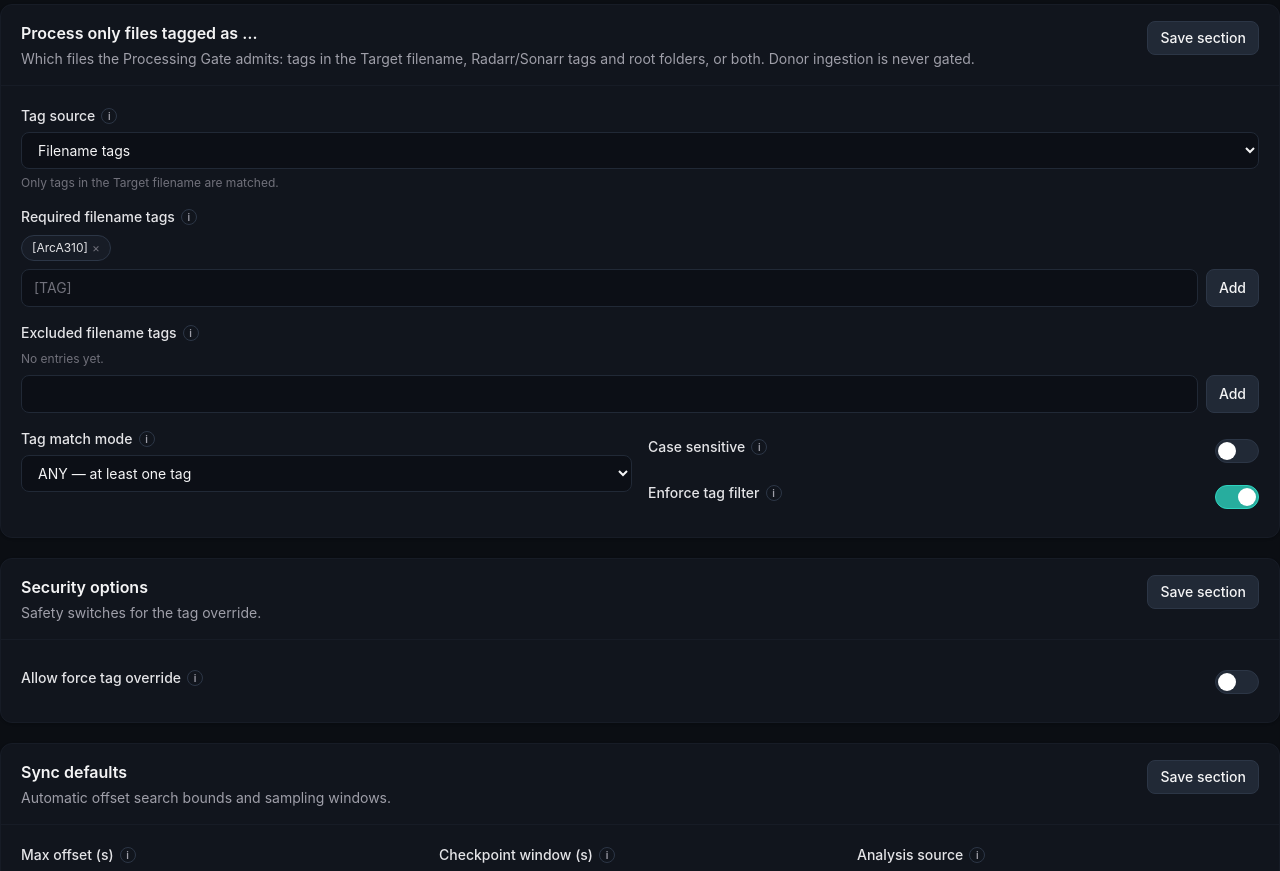
it: watch scanner restart notice › applies a target.tag_filter edit without a restart notice
(page scrolled)
Expected: the heading "Process only files tagged as …" is shown, [21,22,257,42]
Click the switch named "Case sensitive" at point(1237, 450), box [1215,438,1259,462]
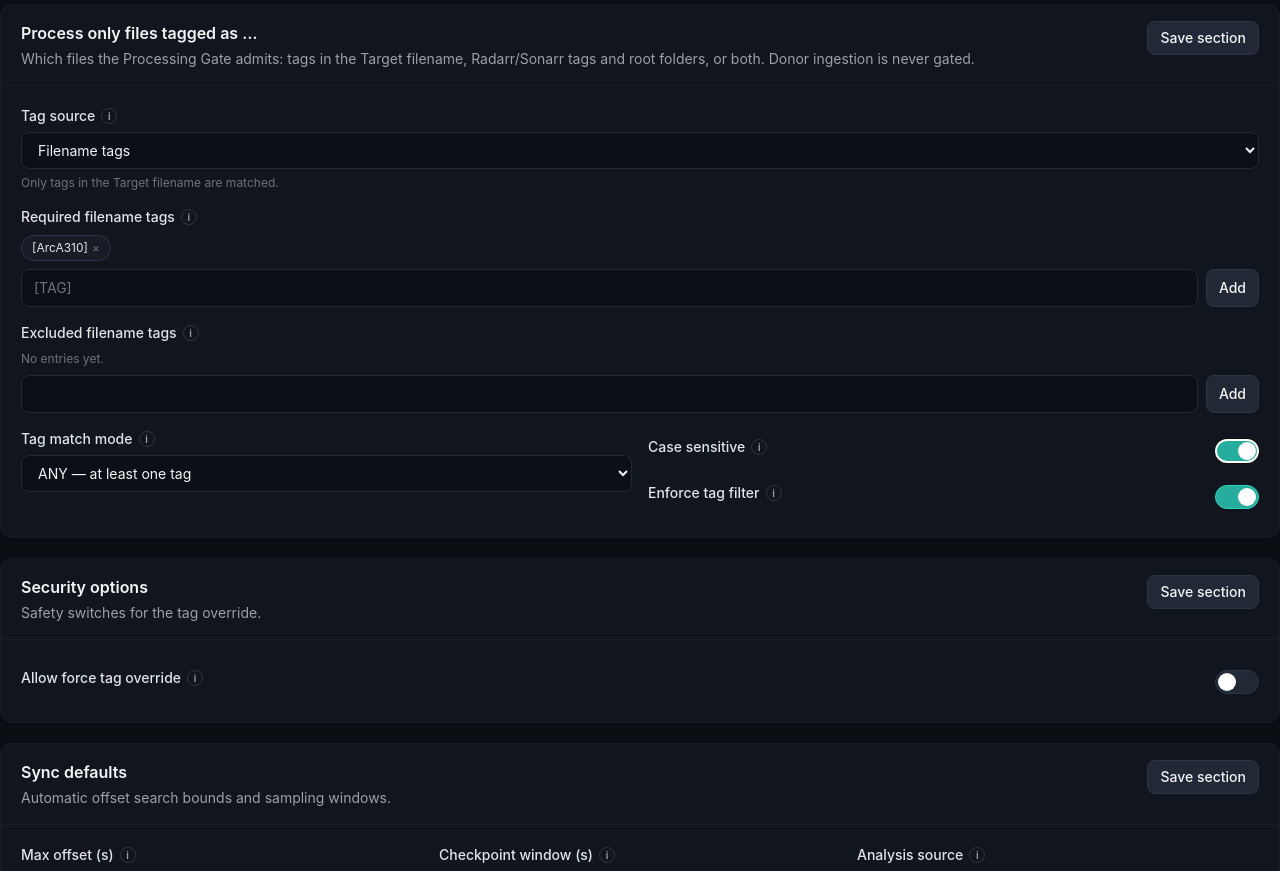
Click the button with aria-label "Save Process only files tagged as …" at point(1203, 38), box [1148,20,1259,54]
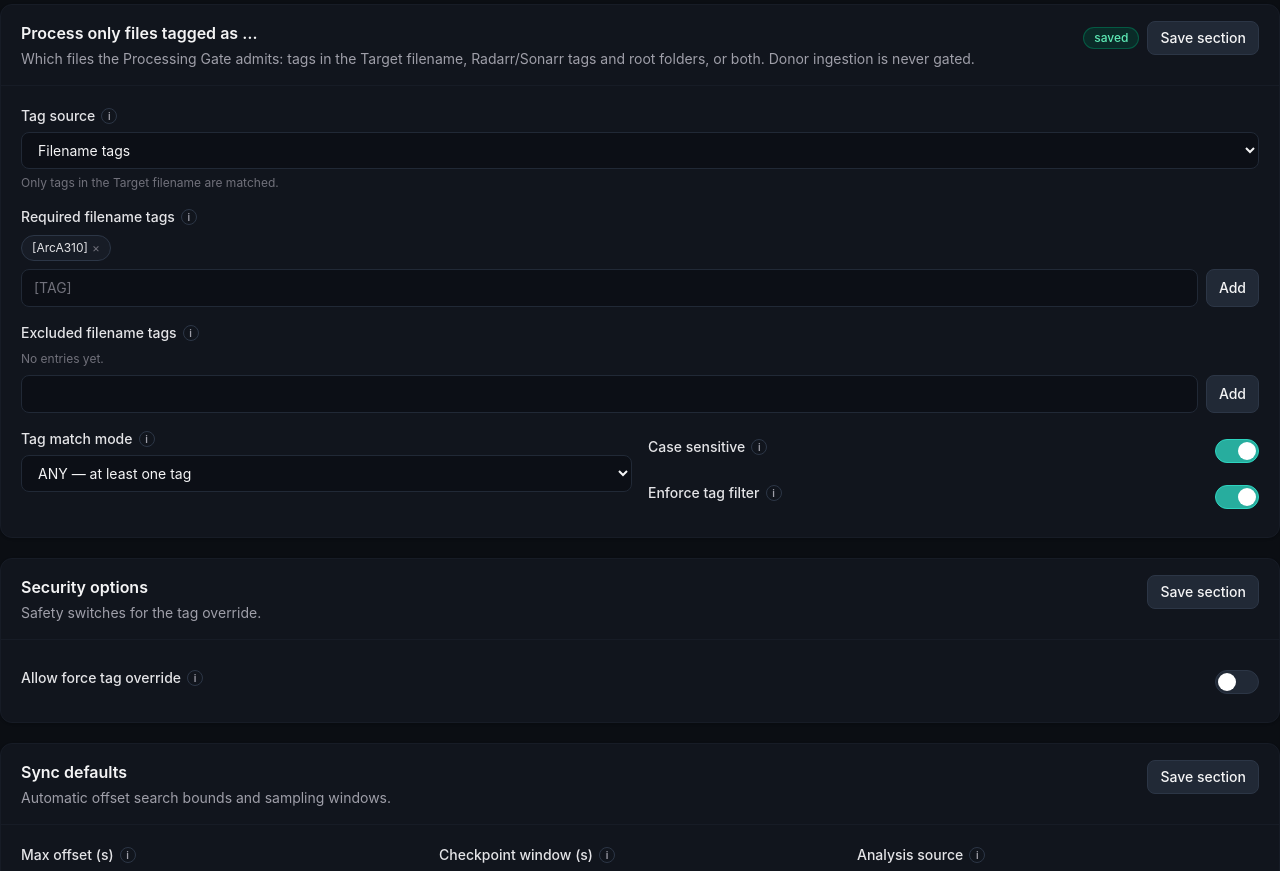
Result: the text "saved" is shown at [1083,26,1139,48]
